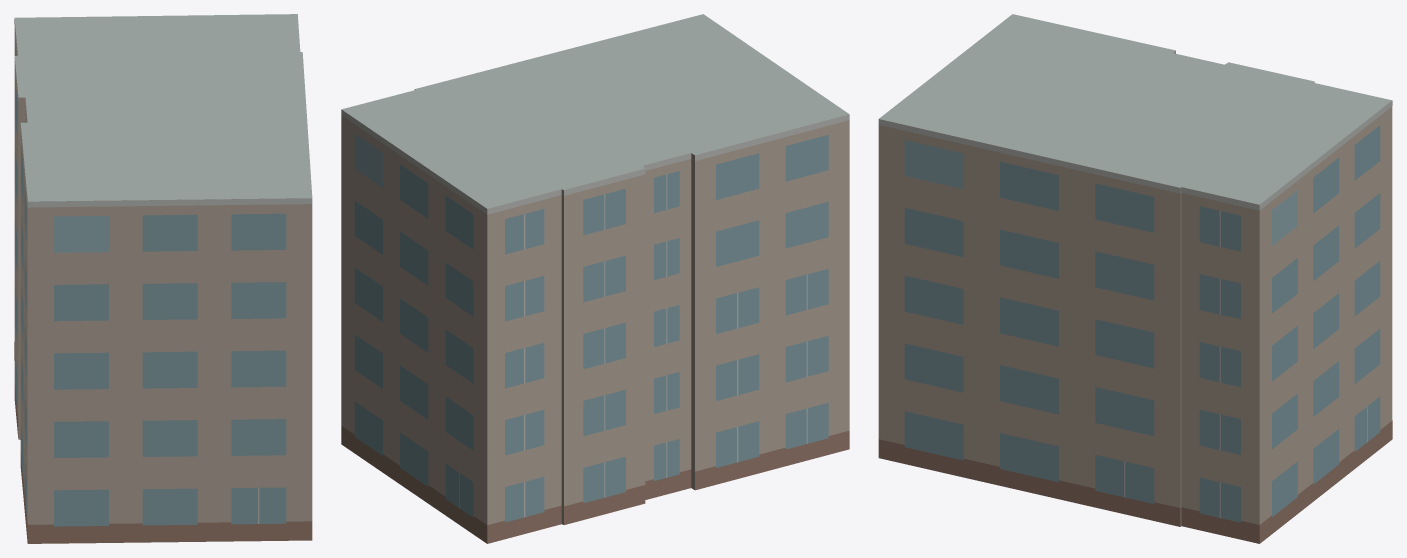
The model's file is survey-upis-32954668.glb.
The picture shows the model from 3 angles, left to right: view 1: azimuth 30°, elevation 25°; view 2: azimuth 150°, elevation 25°; view 3: azimuth 270°, elevation 25°; orthographic projection. The views are drawn at different scales.
Visible parts, largest first — view 1: survey-upis-32954668.tmp; view 2: survey-upis-32954668.tmp; view 3: survey-upis-32954668.tmp.
Part boxes in pixels (box(x1,y1,x2,y2)): survey-upis-32954668.tmp: box(14, 14, 312, 543); survey-upis-32954668.tmp: box(341, 14, 849, 543); survey-upis-32954668.tmp: box(878, 14, 1392, 543).
Size of the model in its own units: 17.02 by 14.1 by 19.37.
